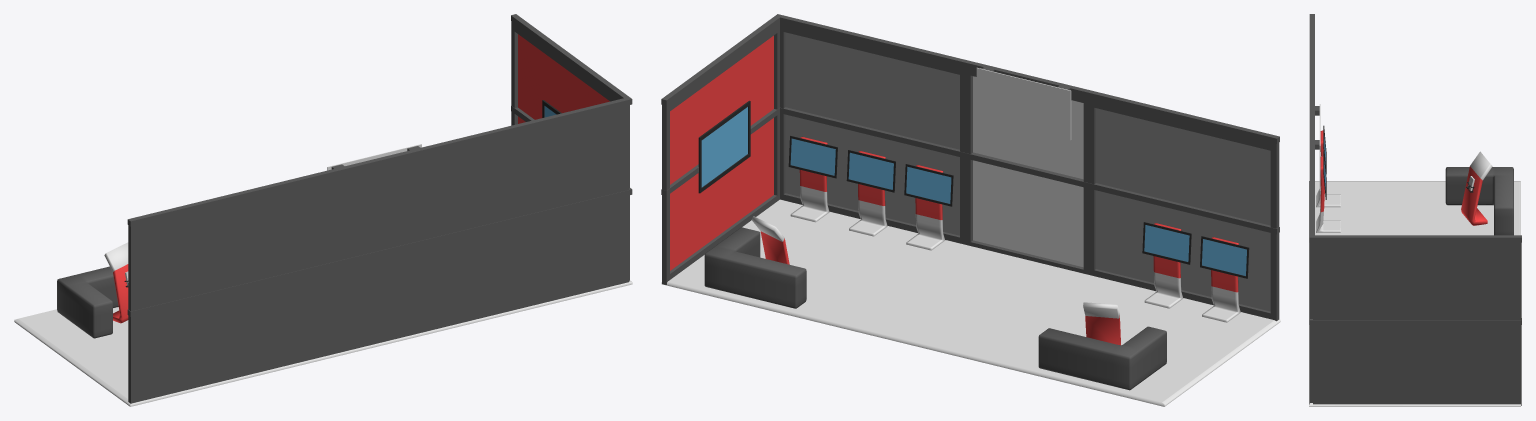
Rendered from Expo2Booth3.fbx.
The picture shows the model from 3 angles, left to right: view 1: azimuth 30°, elevation 25°; view 2: azimuth 150°, elevation 25°; view 3: azimuth 270°, elevation 25°; orthographic projection. The views are drawn at different scales.
Visible parts, largest first — view 1: Cube, Cube.002, Cube.008, Cube.003, Cube.004, Cube.024, Cube.025, Plane.007; view 2: Cube, Cube.008, Cube.004, Cube.002, Cube.025, Cube.003, Plane.001, Cube.024, Plane.017, Plane.050, Plane.048, Plane.014 (+9 smaller); view 3: Cube.004, Cube.008, Cube.003, Cube.025, Plane.007, Cube.024, Plane.051, Cube, Plane.053.
Part boxes in pixels (box(x1,y1,x2,y2)): Cube: box(128, 105, 629, 403); Cube.002: box(319, 151, 441, 357); Cube.008: box(14, 280, 632, 406); Cube.003: box(127, 14, 632, 226); Cube.004: box(511, 21, 629, 280); Cube.024: box(127, 105, 632, 316); Cube.025: box(57, 266, 118, 338); Plane.007: box(104, 242, 128, 323); Cube: box(780, 23, 1279, 321); Cube.008: box(661, 199, 1280, 406); Cube.004: box(662, 23, 779, 284); Cube.002: box(966, 68, 1088, 274); Cube.025: box(704, 227, 1166, 390); Cube.003: box(661, 14, 1279, 143); Plane.001: box(976, 67, 1071, 140); Cube.024: box(661, 107, 1279, 234); Plane.017: box(698, 100, 750, 193); Plane.050: box(1142, 222, 1191, 264); Plane.048: box(904, 164, 953, 206); Plane.014: box(788, 135, 837, 178); Cube.004: box(1313, 242, 1521, 405); Cube.008: box(1309, 181, 1520, 406); Cube.003: box(1309, 14, 1521, 242); Cube.025: box(1445, 167, 1513, 235); Plane.007: box(1461, 151, 1492, 225); Cube.024: box(1309, 243, 1521, 324); Plane.051: box(1316, 156, 1340, 232); Cube: box(1310, 242, 1312, 402); Plane.053: box(1316, 130, 1340, 207).
Size of the model in its own units: 4000 by 1414 by 1606.
